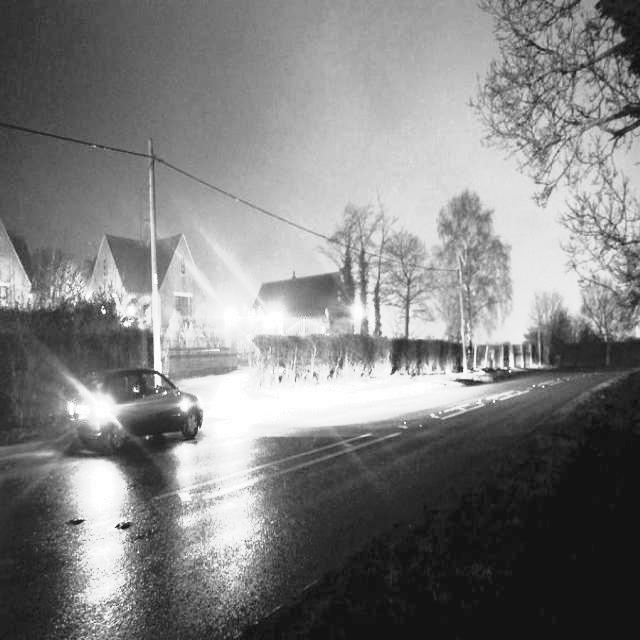Car: (53, 361, 222, 466)
